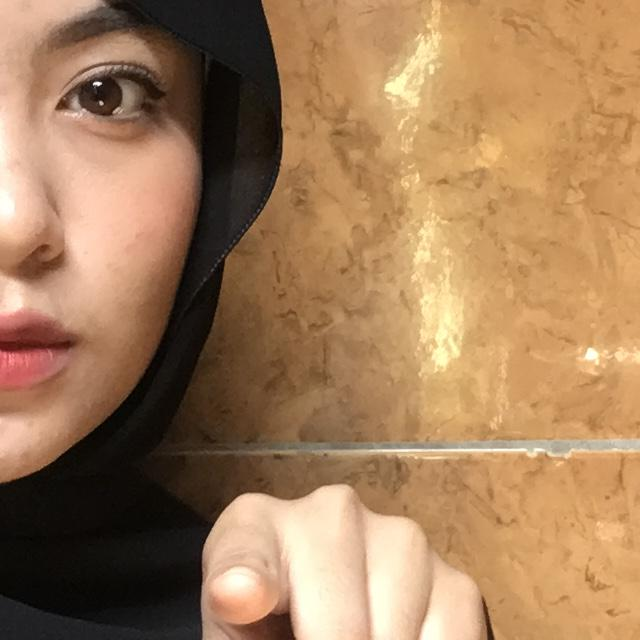kamu: (95, 396, 535, 640)
